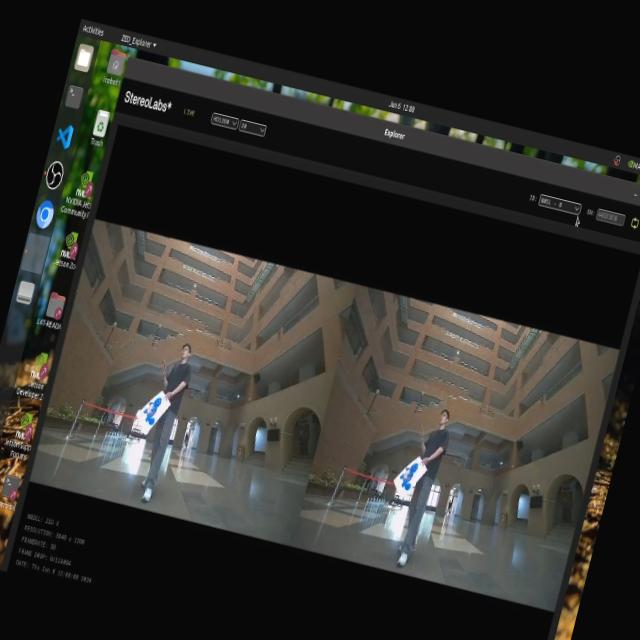blue: (133, 382, 166, 434), (400, 455, 420, 501)
